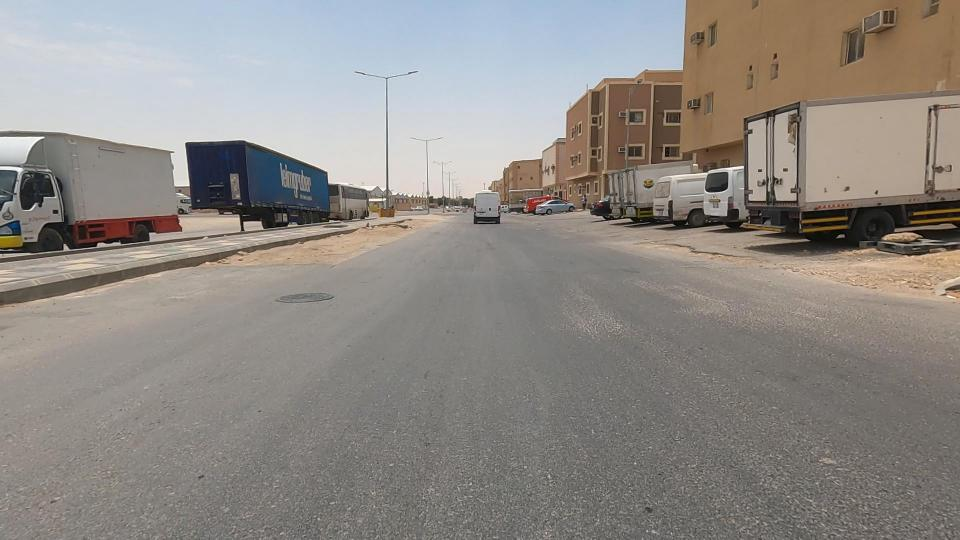CLUTTER_SIDEWALK: (212, 209, 400, 299), (336, 204, 462, 252)
POTHOLES: (643, 227, 772, 280)
